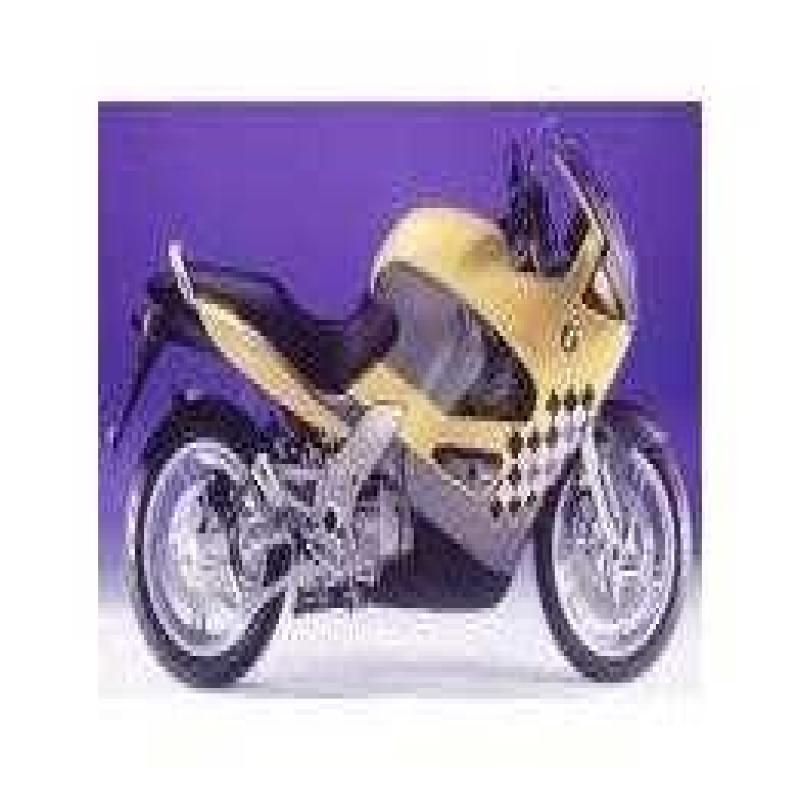bike: (108, 95, 696, 687)
